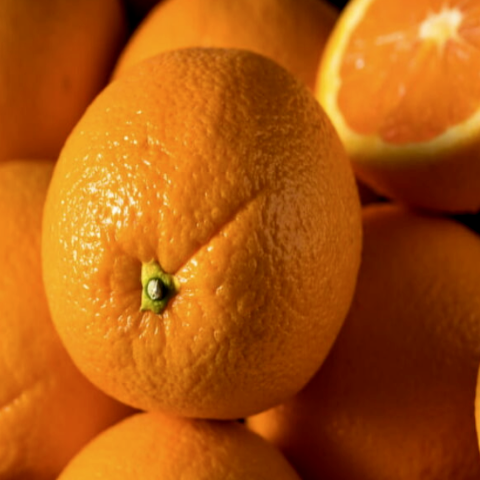orange: (3, 20, 377, 439)
